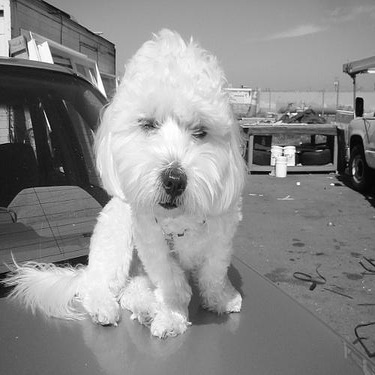dog: (3, 21, 251, 342)
